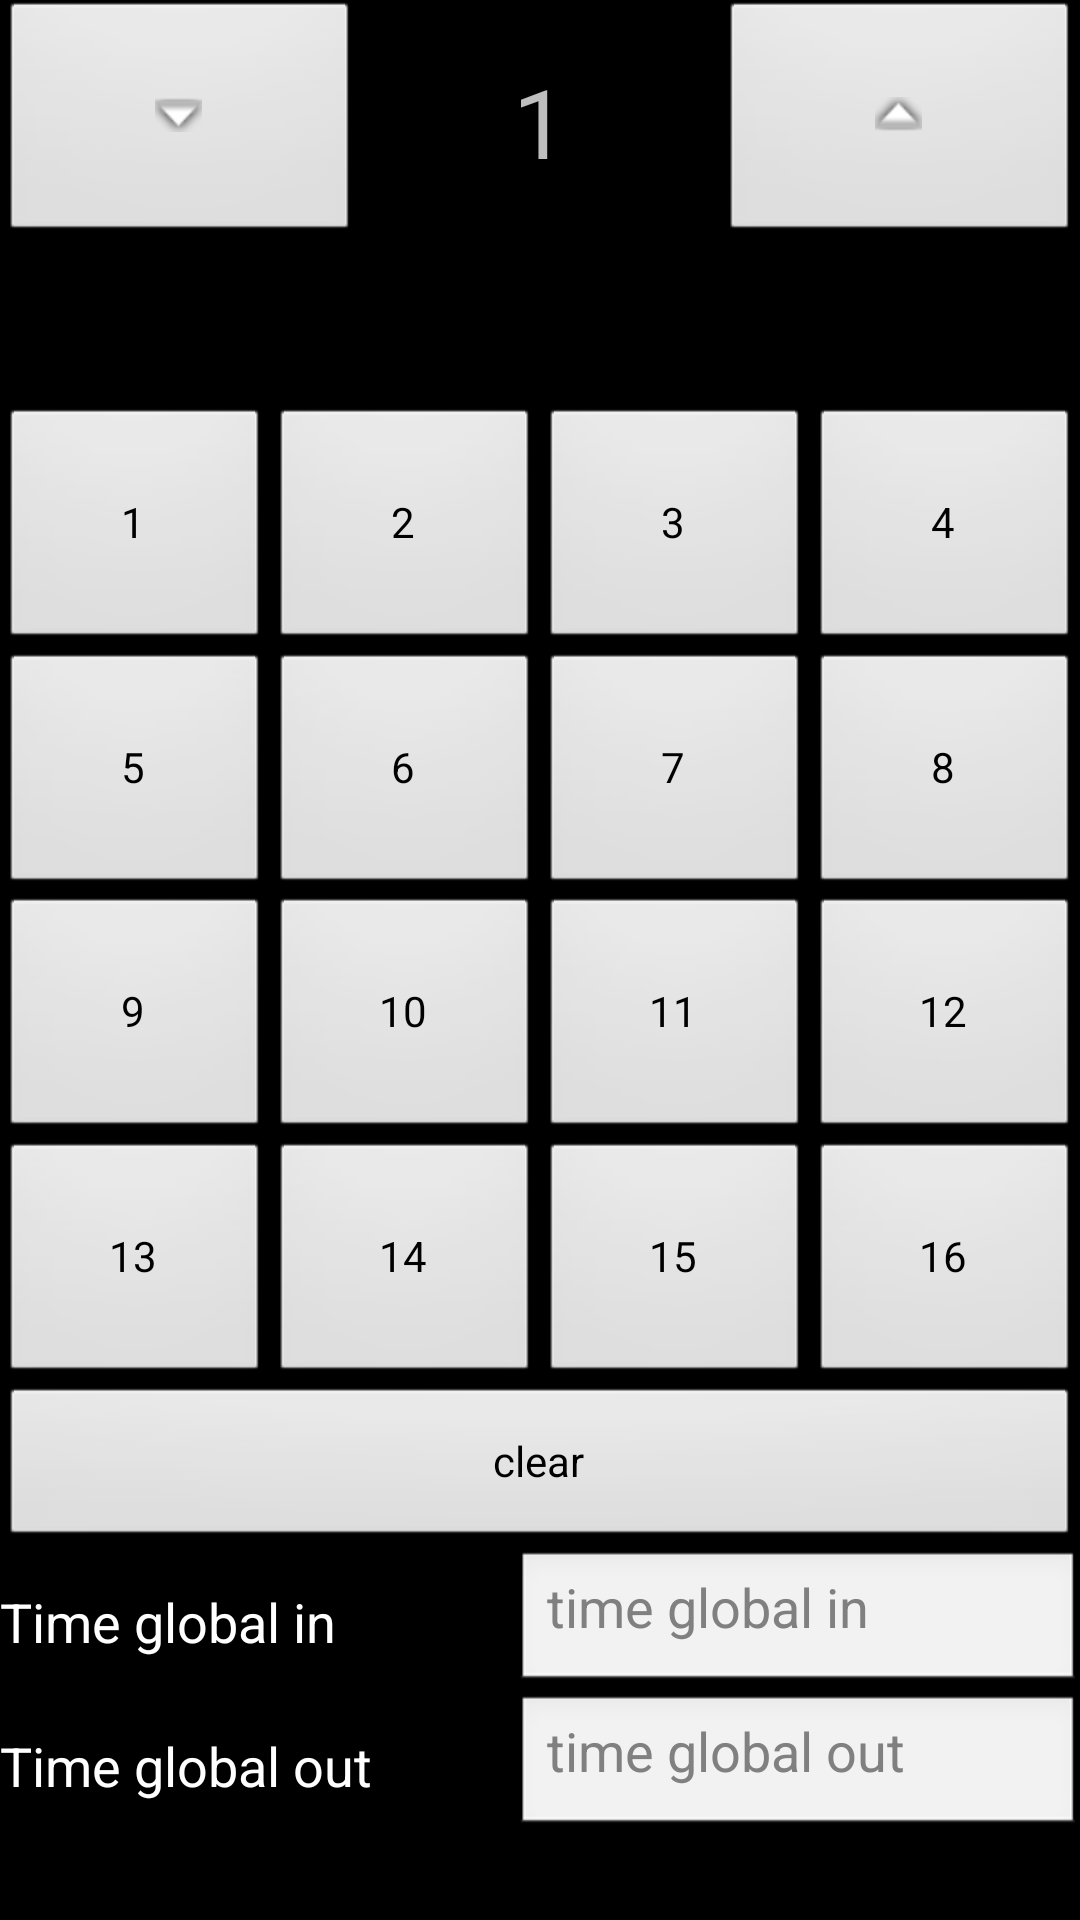

Where to tap for icons on this 1080 × 1920 app screen, as [x,y]:
arrow down float: [179,115]
arrow up float: [899,115]
